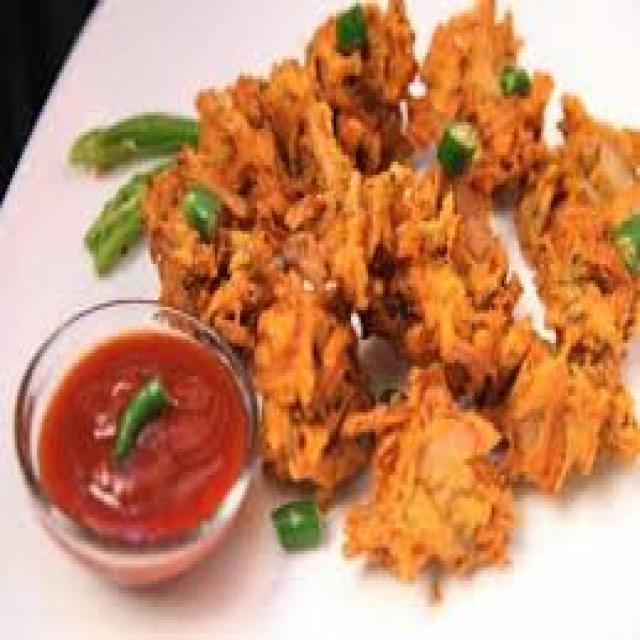BAJI: (305, 178, 522, 378), (152, 100, 314, 340), (356, 394, 514, 552), (521, 139, 629, 358), (256, 294, 370, 492), (427, 13, 540, 195), (323, 19, 420, 171), (510, 370, 619, 494)
